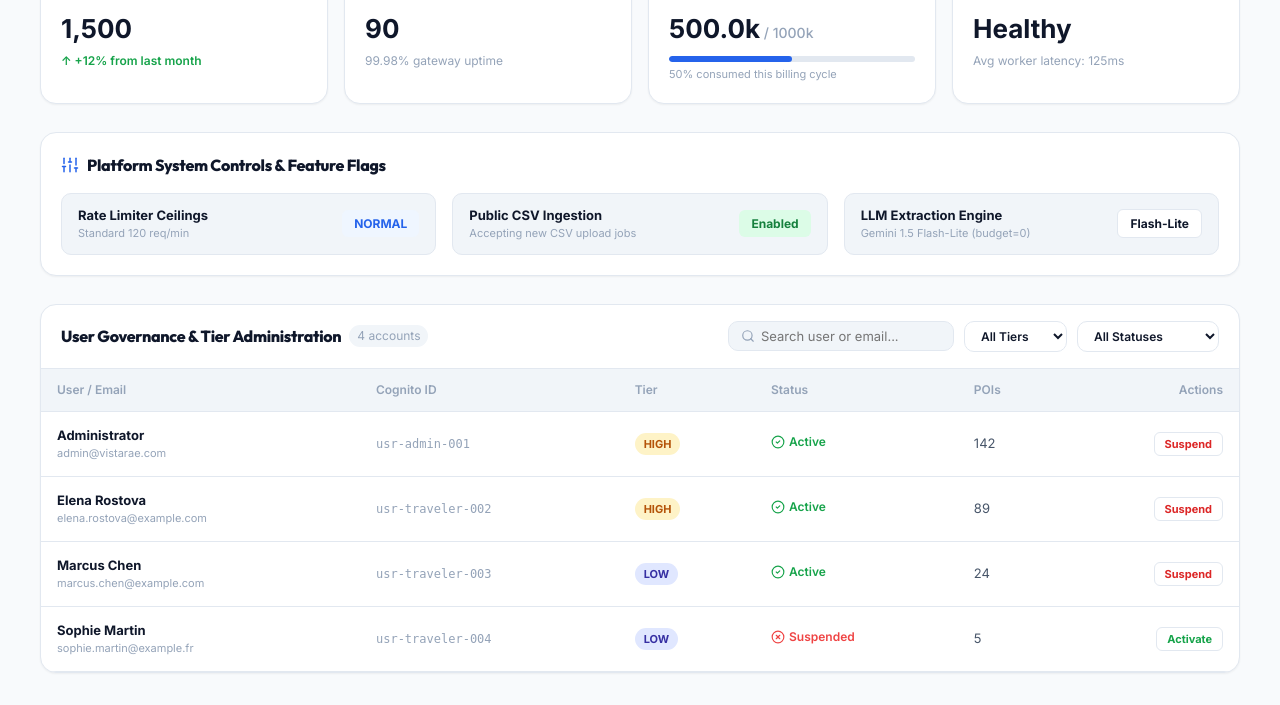
it: AdminDashboardPage Component (REQ-UI-018) › toggles user tier on tier badge click
The width and height of the screenshot is (1280, 705).
(page scrolled)
Expected: the text "Marcus Chen" is shown, [57,556,141,572]
Click the button titled "Click to toggle tier" in the row of "Marcus Chen": [656, 574] box [635,562,678,584]
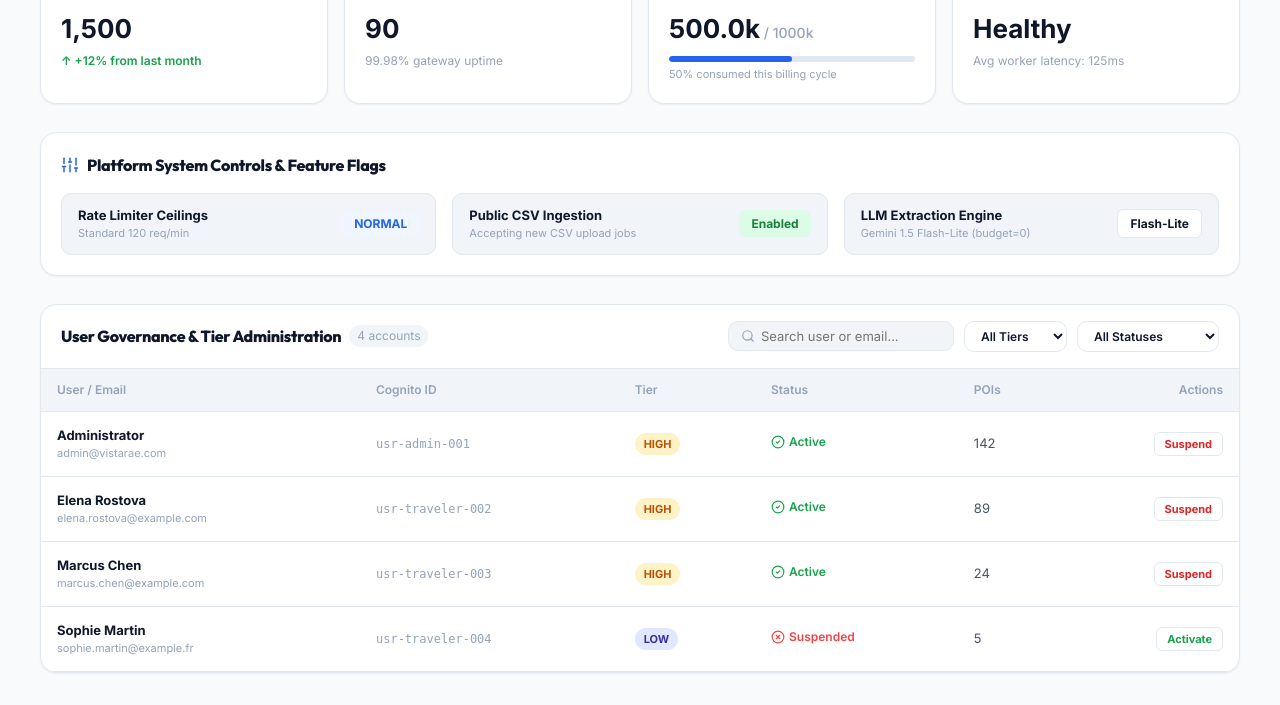
Expected: the button titled "Click to toggle tier" in the row of "Marcus Chen" reads "HIGH", [635,562,680,584]
